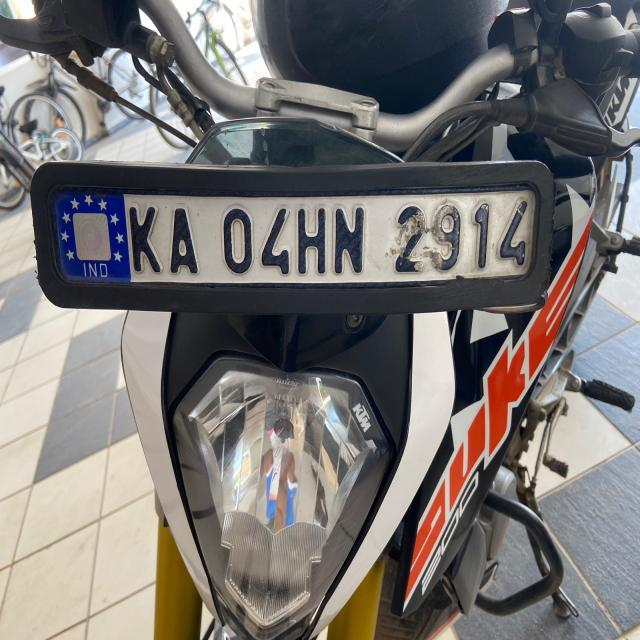0: (217, 198, 257, 276)
1: (466, 199, 505, 271)
4: (254, 195, 294, 276), (498, 193, 533, 270)
9: (428, 196, 463, 272)
A: (165, 198, 203, 282)
H: (295, 203, 329, 286)
K: (125, 195, 165, 280)
N: (333, 202, 369, 280)
